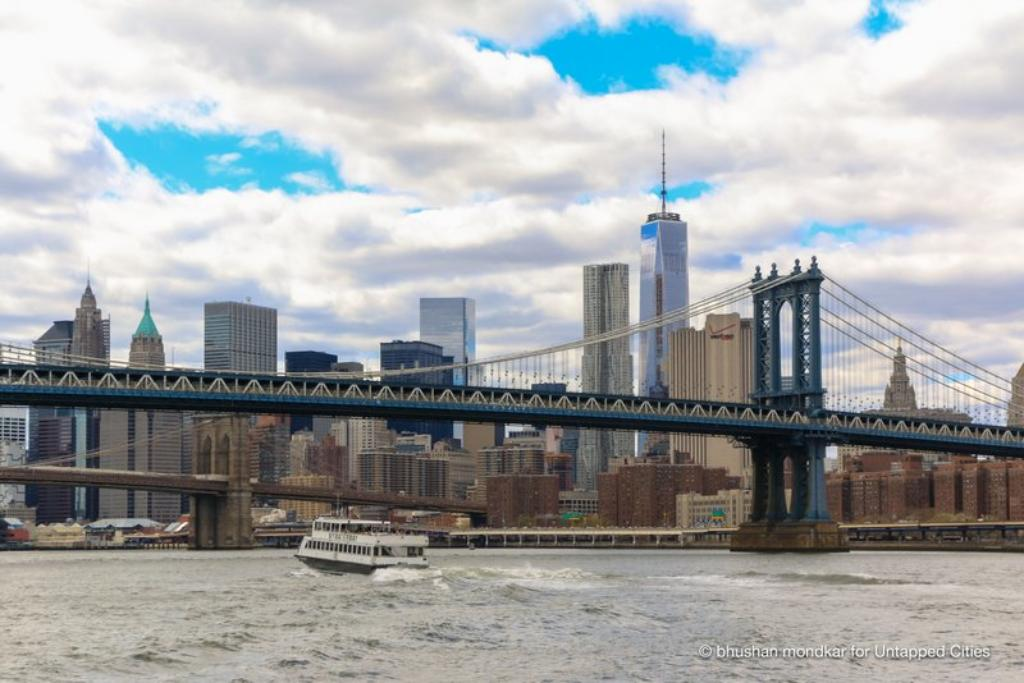PassengerShip: (274, 508, 434, 586)
